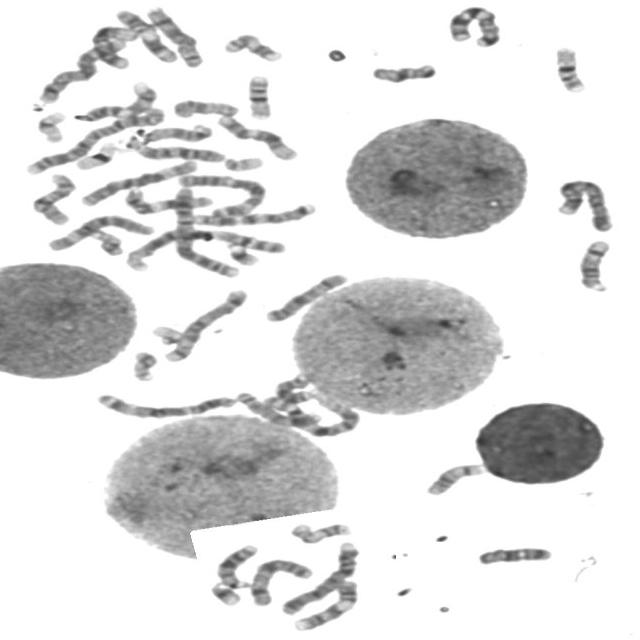A1: (119, 224, 288, 273), (232, 387, 365, 438)
A2: (21, 104, 169, 176), (167, 183, 242, 278)
A3: (90, 388, 241, 419), (173, 170, 270, 218)
B4: (275, 536, 364, 616), (551, 175, 617, 233)
B5: (157, 284, 252, 364), (33, 34, 131, 105)
C10: (25, 169, 80, 226), (128, 140, 227, 164)
C11: (109, 4, 181, 64), (119, 184, 216, 215)
C12: (212, 110, 302, 162), (85, 21, 139, 70)
C6: (75, 155, 201, 208), (41, 210, 158, 252)
C7: (185, 198, 320, 228), (442, 1, 505, 49)
C8: (140, 1, 208, 68), (232, 388, 324, 428)
C9: (71, 76, 161, 124), (288, 575, 362, 633)
D13: (211, 540, 262, 590), (269, 370, 316, 406)
D14: (421, 459, 487, 497), (573, 236, 615, 293)
D15: (134, 119, 215, 145), (168, 95, 243, 119)
E16: (548, 41, 590, 94), (241, 70, 276, 120)
E17: (218, 30, 286, 64), (285, 517, 355, 545)
E18: (472, 542, 556, 566), (366, 59, 440, 85)
F19: (70, 137, 121, 171), (31, 106, 70, 144)
F20: (260, 388, 326, 412), (126, 347, 161, 382)
G21: (220, 239, 263, 267), (205, 578, 245, 607)
G22: (146, 320, 186, 346), (218, 152, 267, 172)
X: (259, 268, 351, 324), (244, 554, 317, 608)
